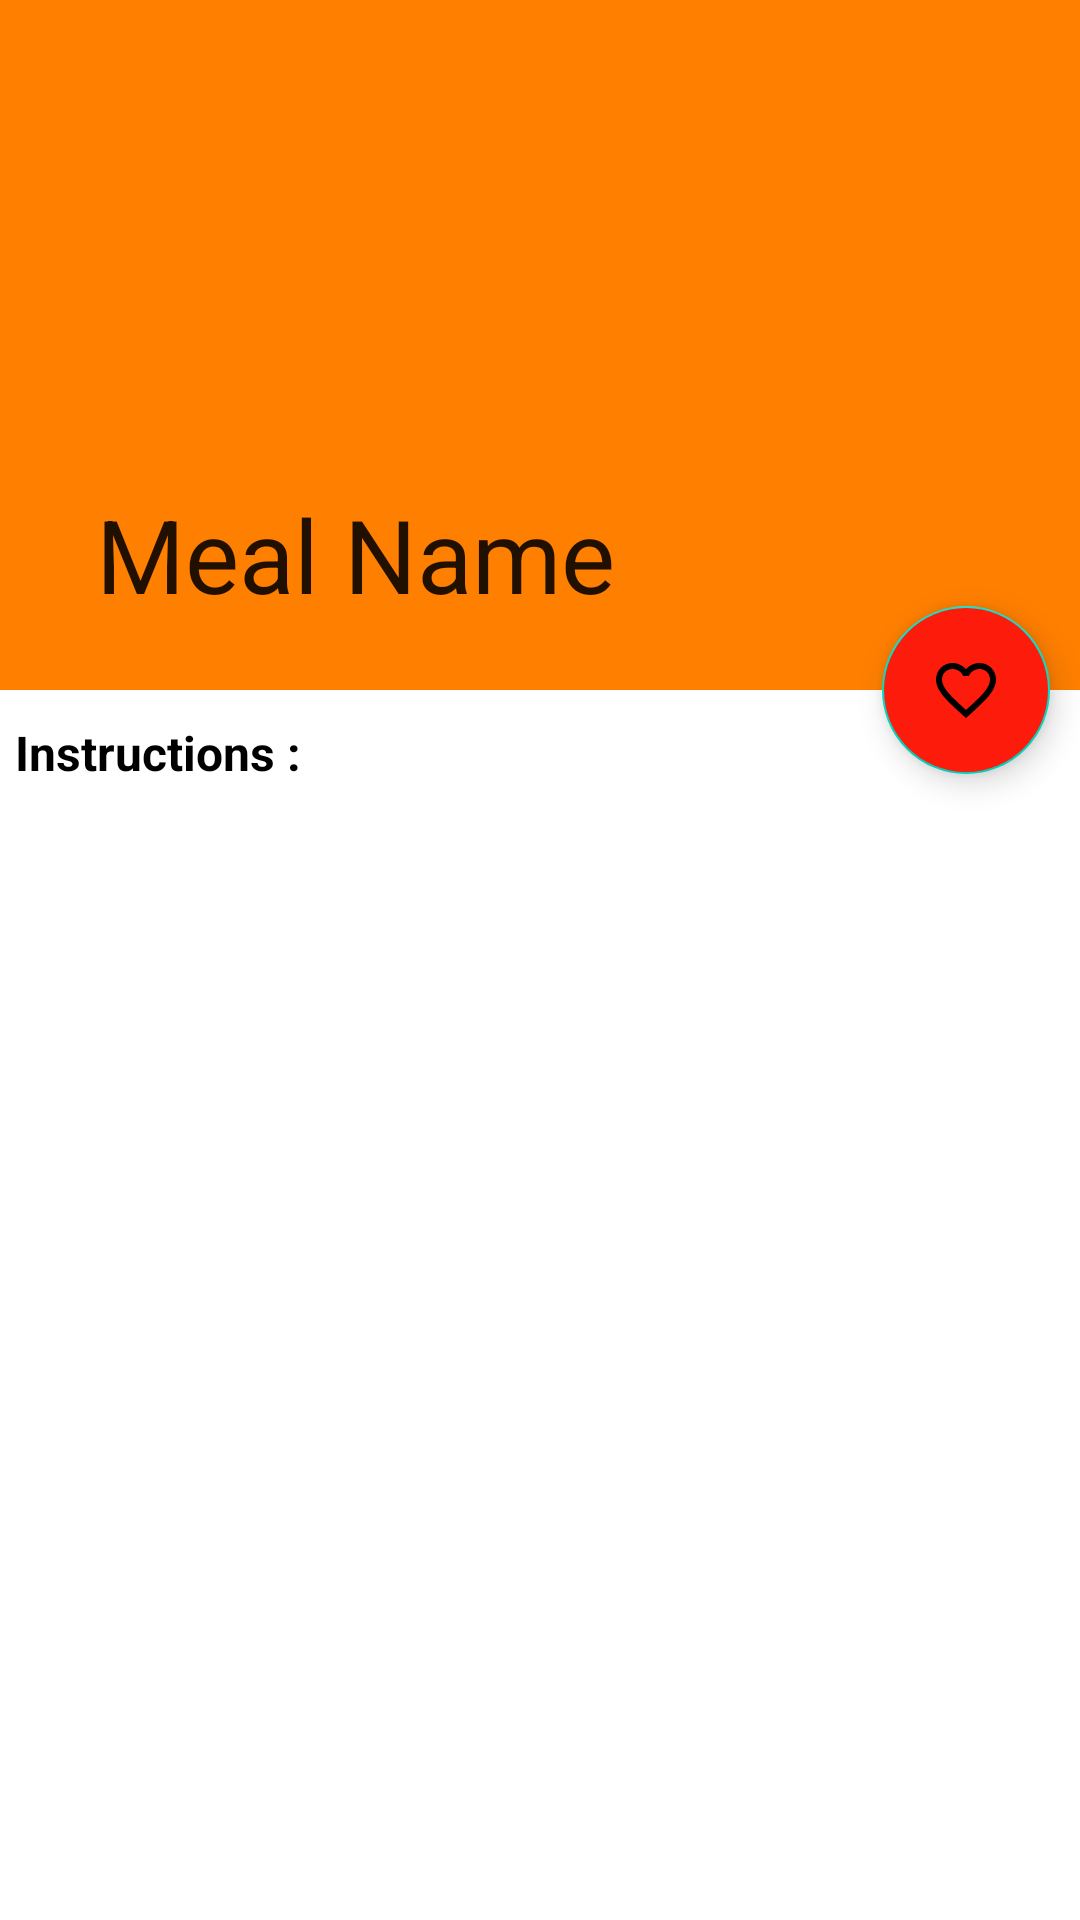

Icon click points for this 1080*1920 phone screenshot, format (x,y):
favorite border: (966,690)
